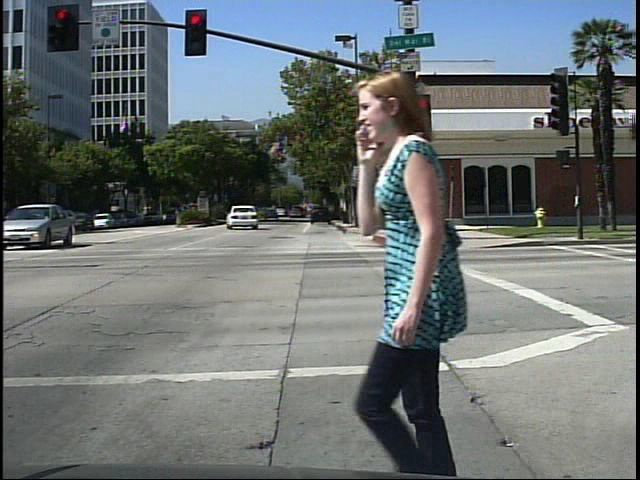person: (330, 62, 523, 479)
